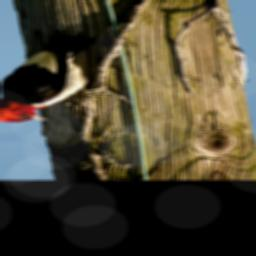Woodpecker: (0, 29, 113, 123)
